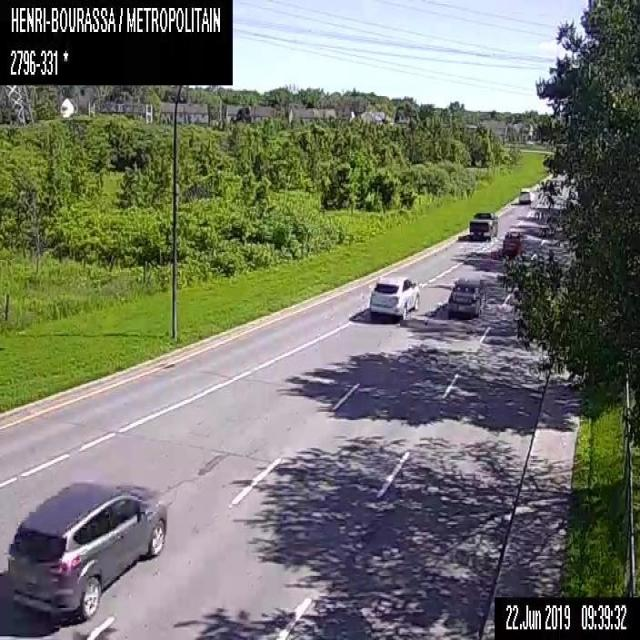vehicle: (3, 479, 168, 621), (367, 274, 420, 318), (446, 279, 486, 317), (468, 209, 498, 240), (501, 229, 522, 259), (518, 188, 534, 203)
